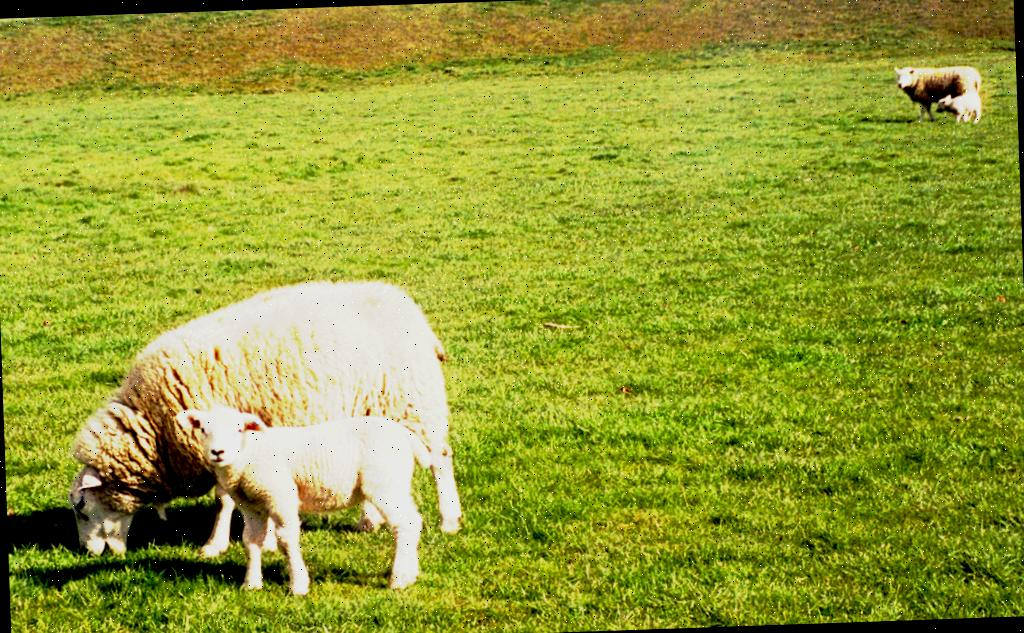Sheep: (63, 268, 465, 560), (172, 396, 438, 598), (895, 64, 984, 120), (936, 88, 986, 124)
